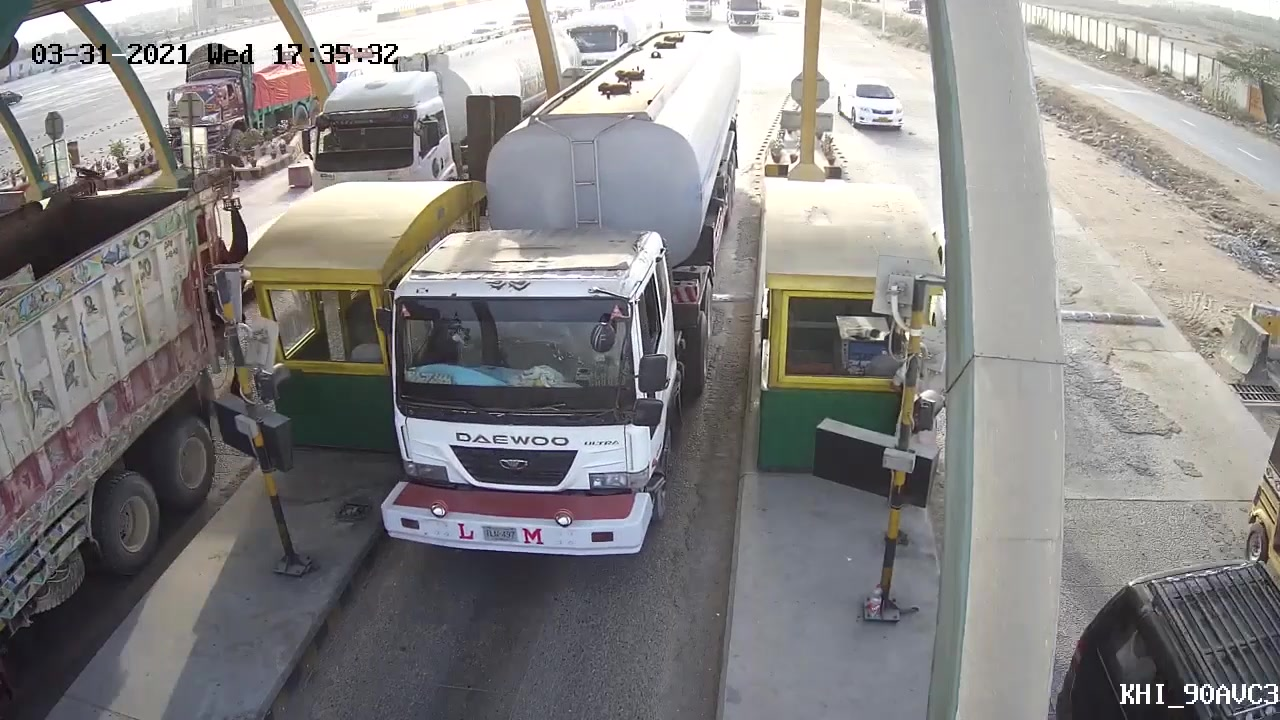F5: (376, 111, 714, 596)
